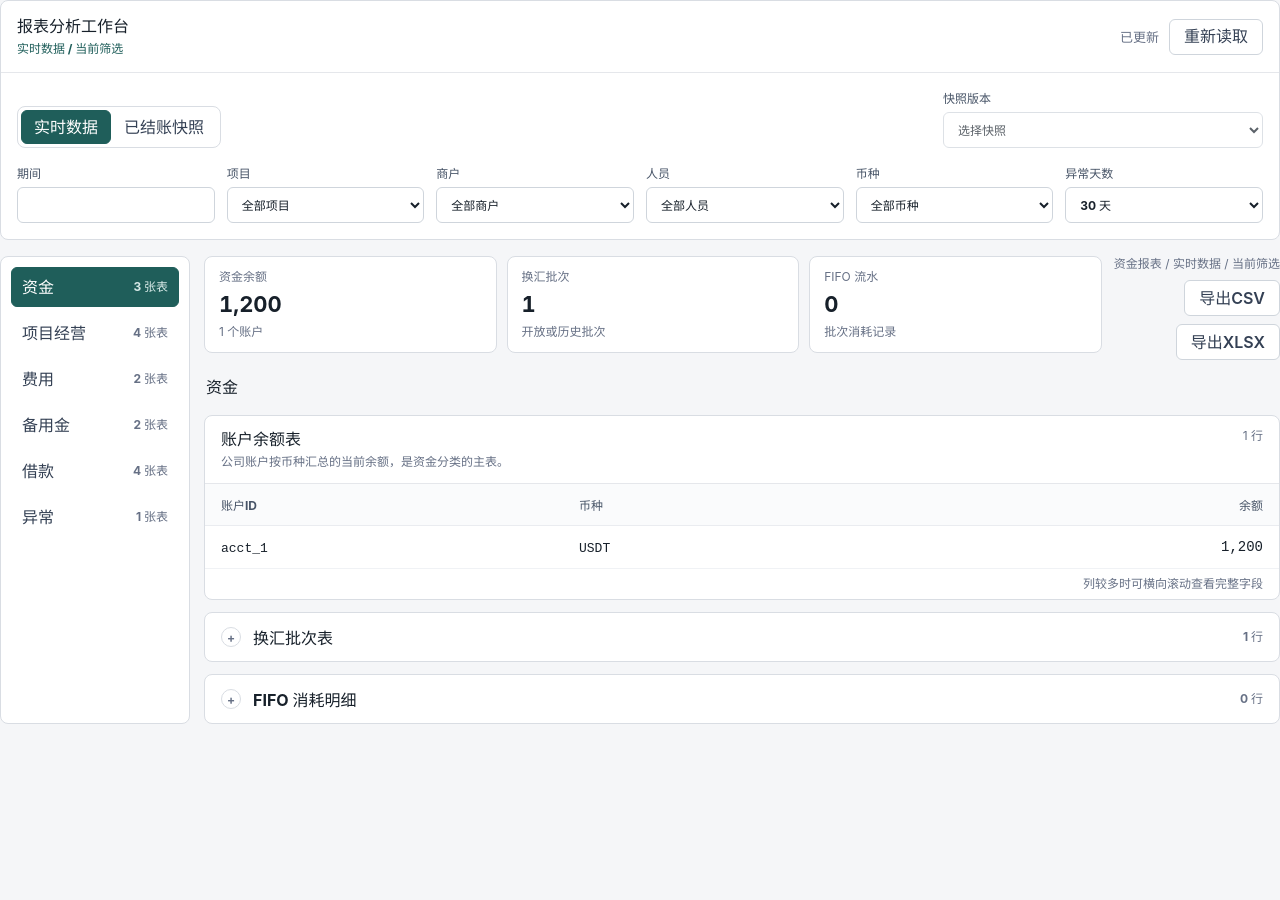
Test: ReportsPage › drills from project profit rows into related income and expense details
Expected: the message with class "status-slot" reads "已更新", [1120,28,1159,44]
Click the tab "项目经营 4 张表" at x=95, y=333, box [11,313,179,353]
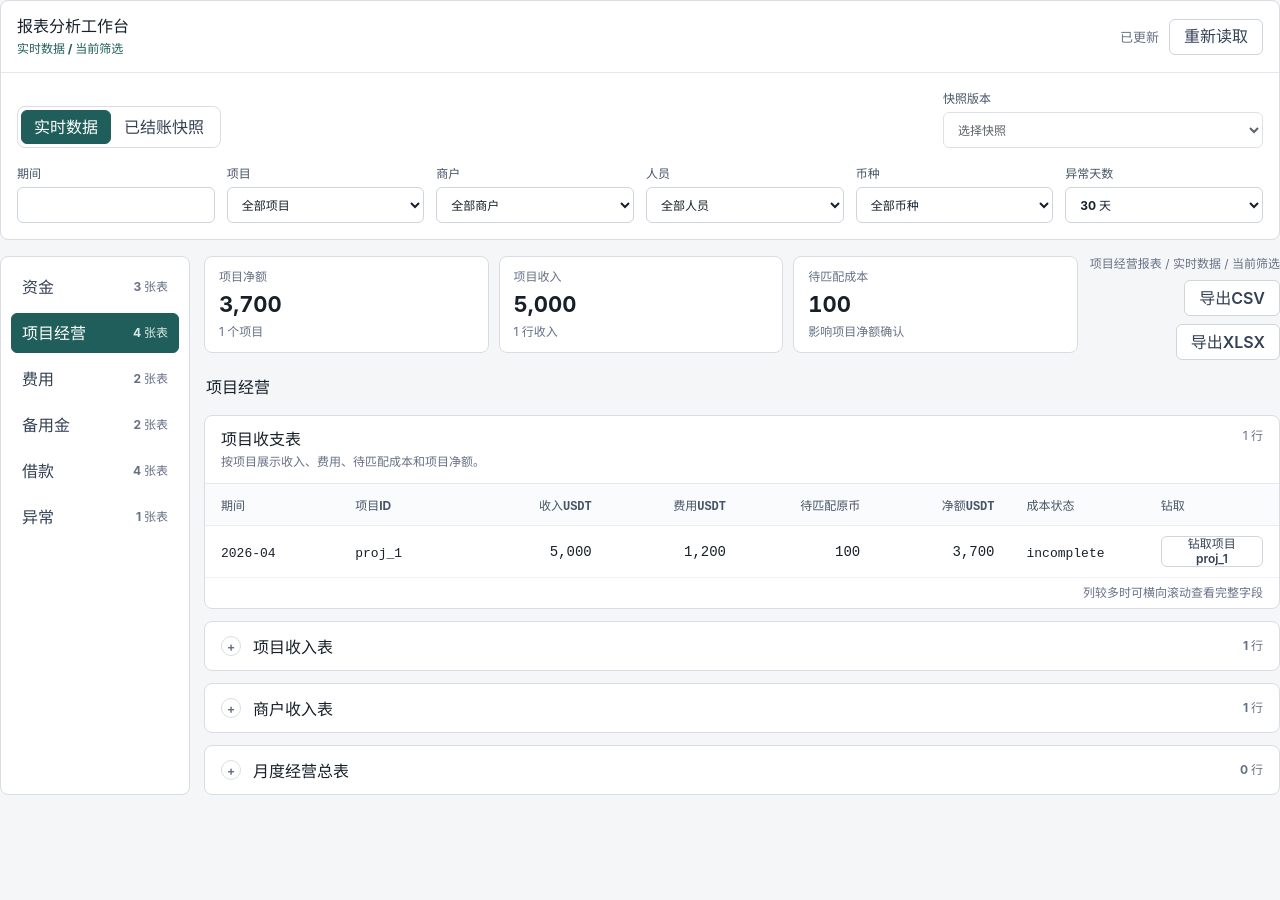
Click the button "钻取项目 proj_1" at x=1212, y=552, box [1161,536,1263,567]
(page scrolled)
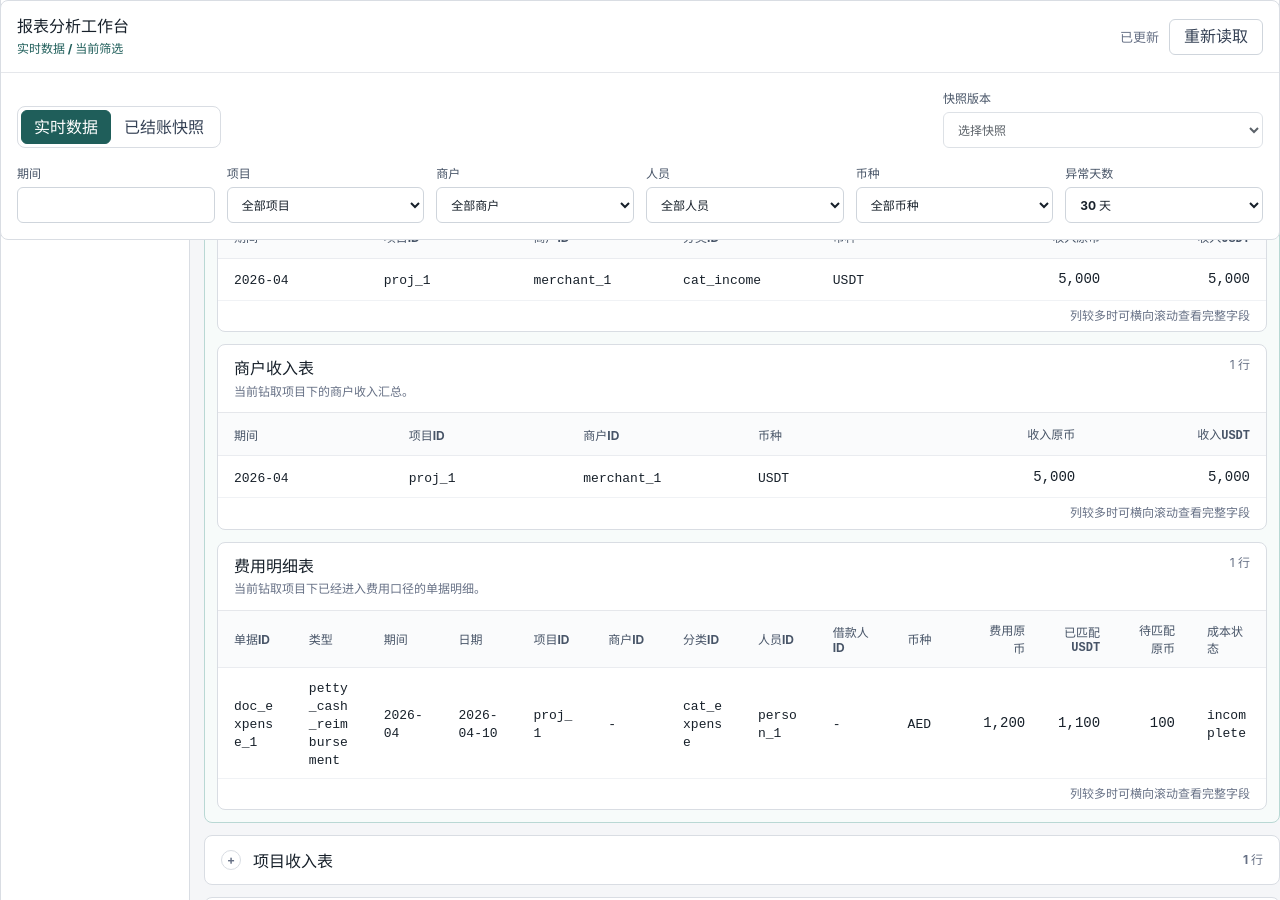
Now the element with class "report-drilldown-panel" shows "项目 proj_1"
Now the element with class "report-drilldown-panel" shows "费用明细表", box [234,556,314,576]
Now the element with class "report-drilldown-panel" shows "doc_expense_1", box [234,699,273,750]
